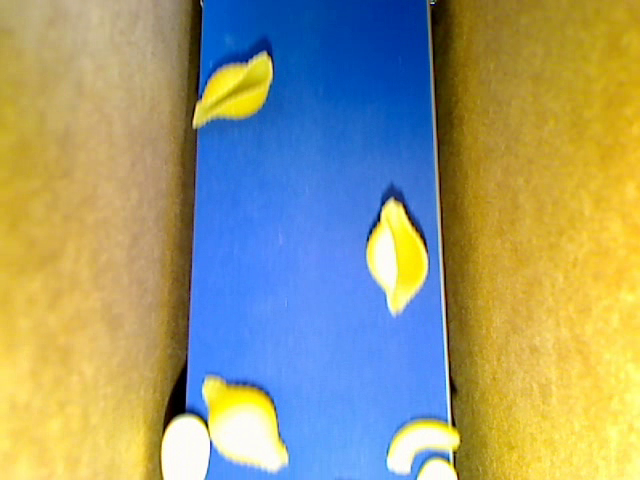elbow: (386, 421, 459, 474)
shell: (201, 374, 290, 473), (365, 197, 428, 316), (191, 51, 272, 130)
